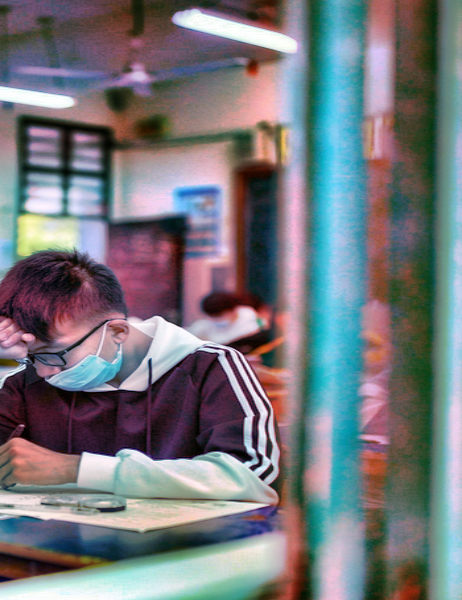mask_weared_incorrect: (4, 254, 120, 391)
